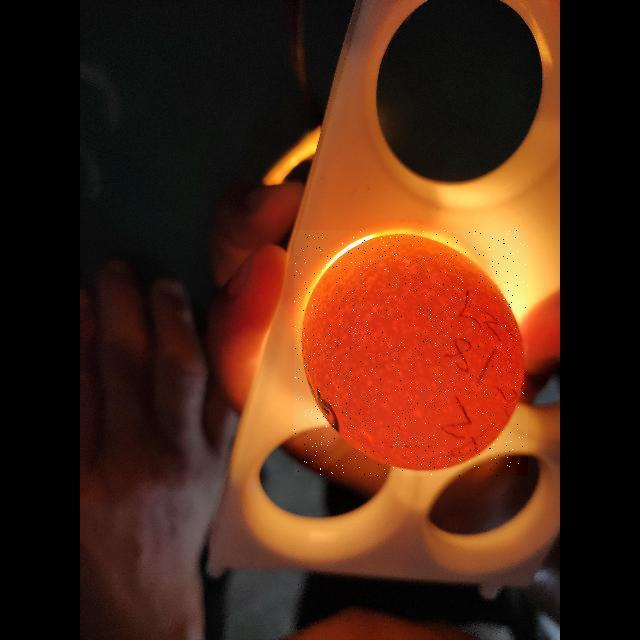Inedible: (298, 231, 537, 478)
